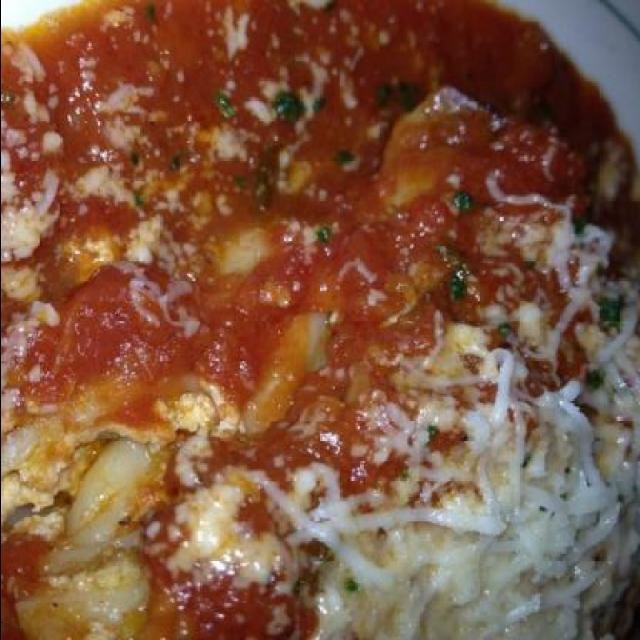Lasagna: (22, 41, 616, 619)
